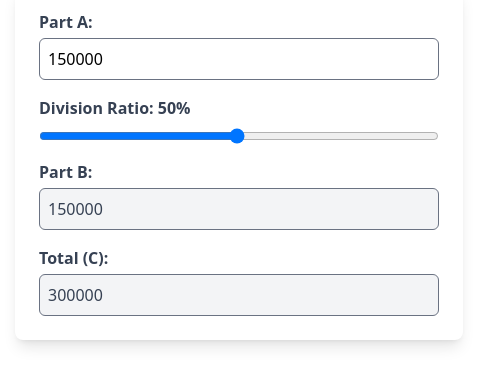
/+page.svelte › should calculate 60/40 split correctly using slider
Expected: the number field with test id "part-a" holds "150000", [39,38,439,80]
Set the slider with test id "percentage" to "60" at [276, 136], box [39,128,439,144]
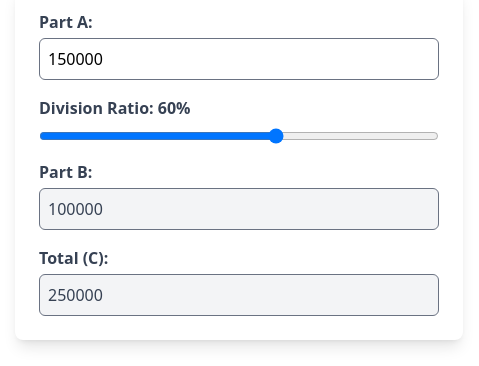
Expected: the number field with test id "part-b" holds "100000", [39,188,439,230]
Expected: the number field with test id "total" holds "250000", [39,274,439,316]
